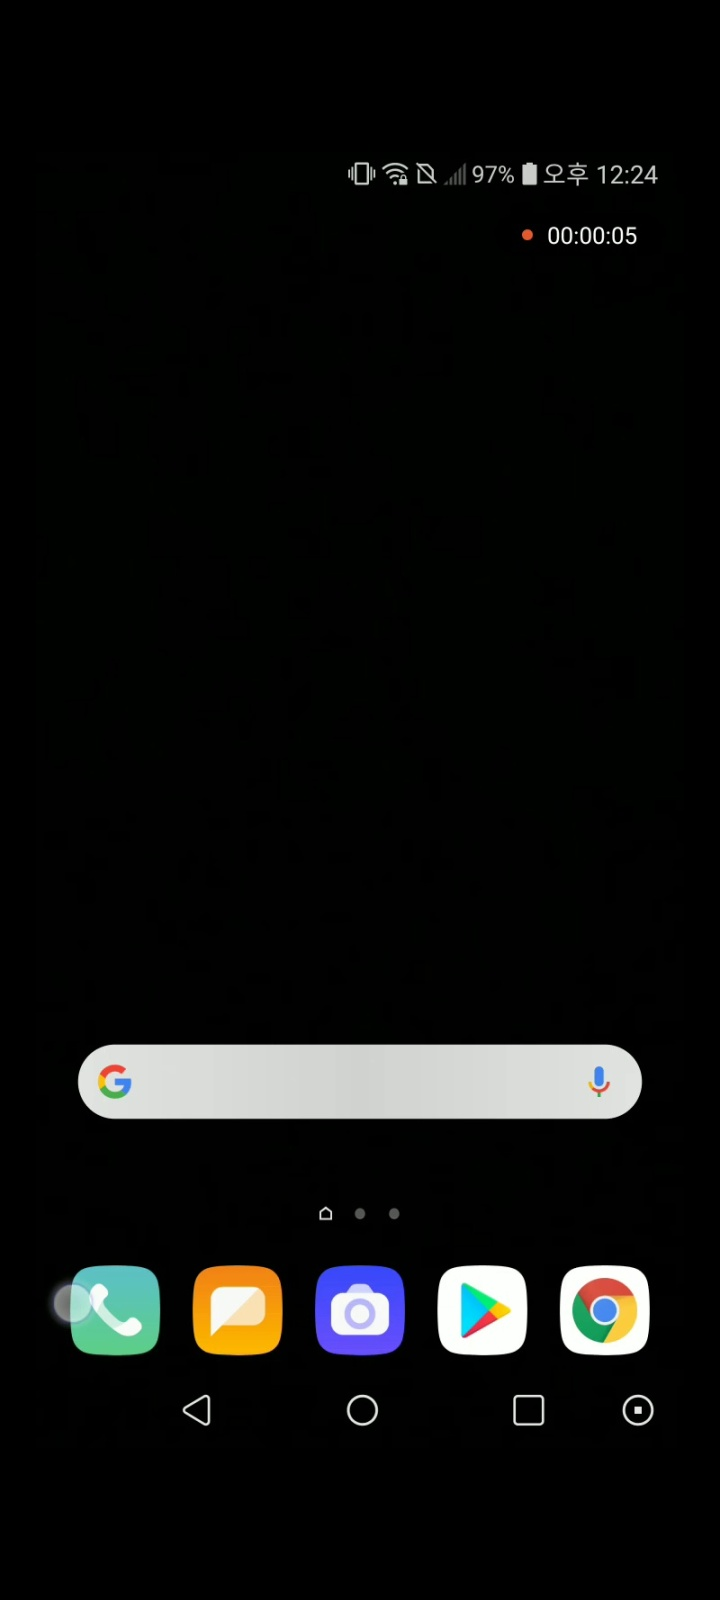Cursor: (51, 1283, 96, 1328)
